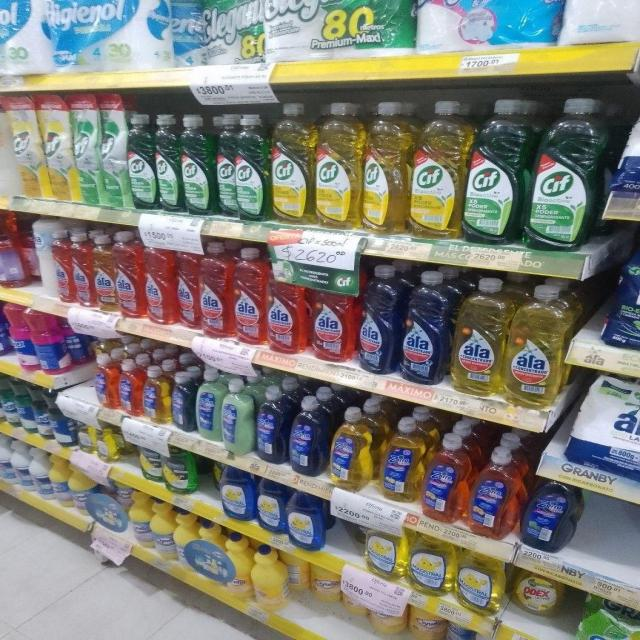ala_conc_amarillo: (506, 282, 566, 407), (452, 276, 504, 396), (93, 234, 114, 314)
ala_conc_azul: (400, 269, 450, 385), (358, 264, 398, 375)
ala_conc_rojo: (309, 261, 356, 363), (267, 255, 307, 354), (233, 246, 266, 347), (200, 240, 232, 339), (144, 235, 175, 326), (115, 232, 143, 320), (176, 238, 198, 330), (72, 233, 92, 307), (52, 231, 72, 305)
cif_conc_bot_amarilla: (410, 98, 463, 240), (362, 99, 408, 234), (315, 100, 361, 229), (270, 101, 314, 225)
cif_conc_botella_verde: (527, 96, 597, 252), (465, 96, 524, 245), (235, 112, 269, 222), (182, 114, 212, 217), (128, 112, 155, 211), (156, 113, 180, 213), (215, 114, 236, 218)
magistral_con_amarillo: (456, 550, 503, 612), (408, 534, 453, 595), (364, 522, 406, 580), (97, 422, 118, 462), (77, 419, 96, 455)
magistral_con_azul: (286, 492, 324, 550), (219, 466, 254, 522), (256, 478, 284, 533)
zorro: (330, 406, 374, 491), (380, 416, 422, 503), (290, 395, 326, 476)
